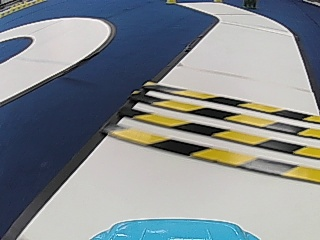bump: (154, 83, 317, 183)
